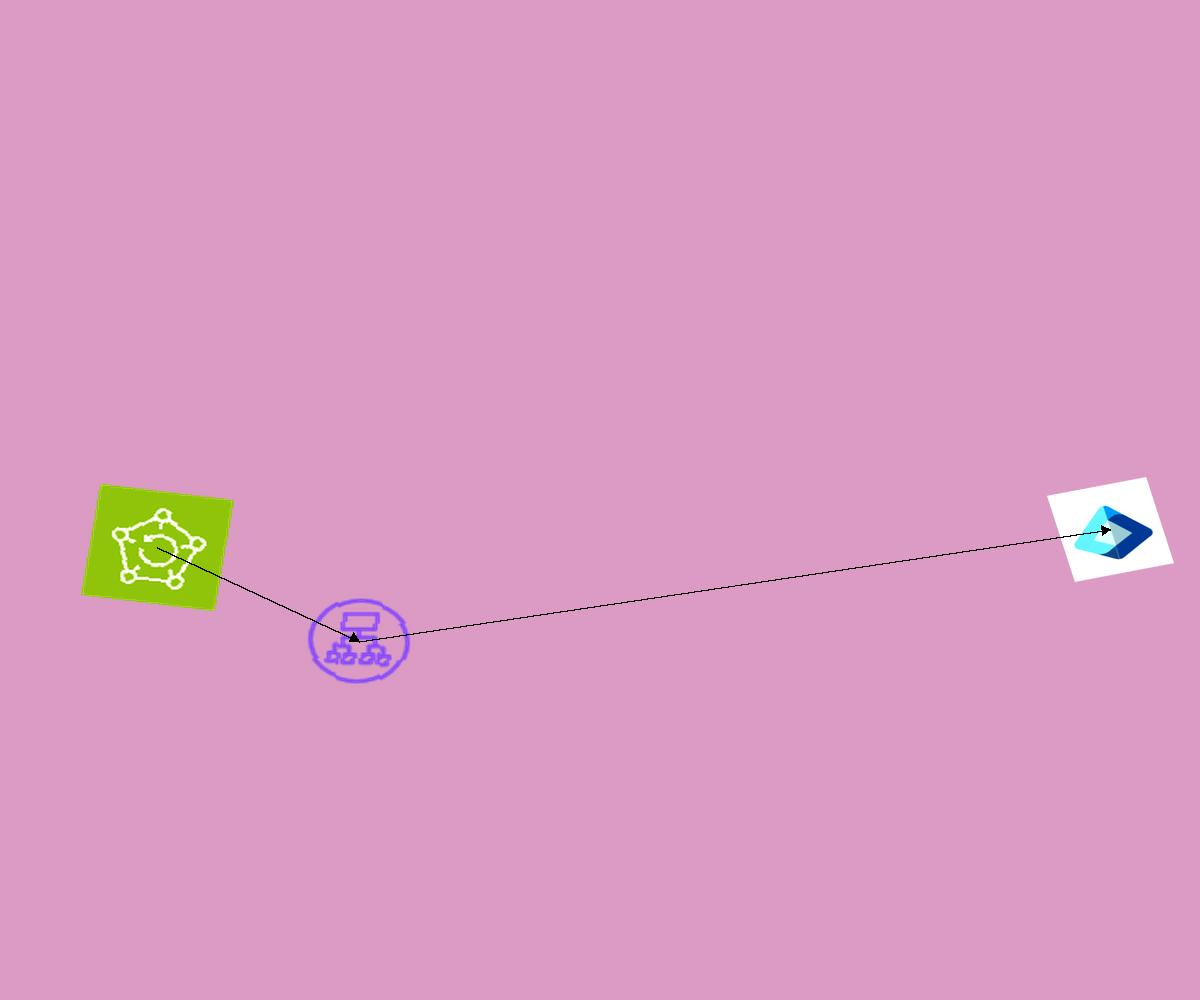AWS-Backup: (80, 483, 235, 612)
AWS-Res_Elastic-Load-Balancing_Application-Load-Balancer: (299, 591, 419, 691)
Azure_microsoft_entra: (1047, 477, 1174, 582)
